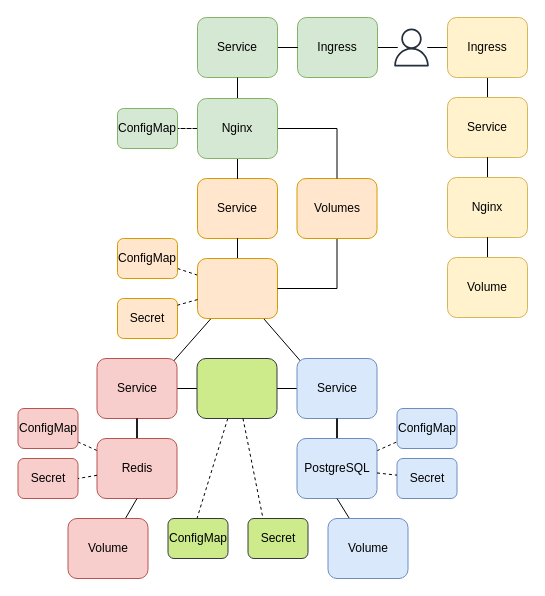
The diagram is 545 pixels wide and 596 high, and some of its shapes have lost their labels. The centre of each missing label's shape, as x and y in pixels:
Celery: (x=236, y=388)
Wesago: (x=237, y=288)
